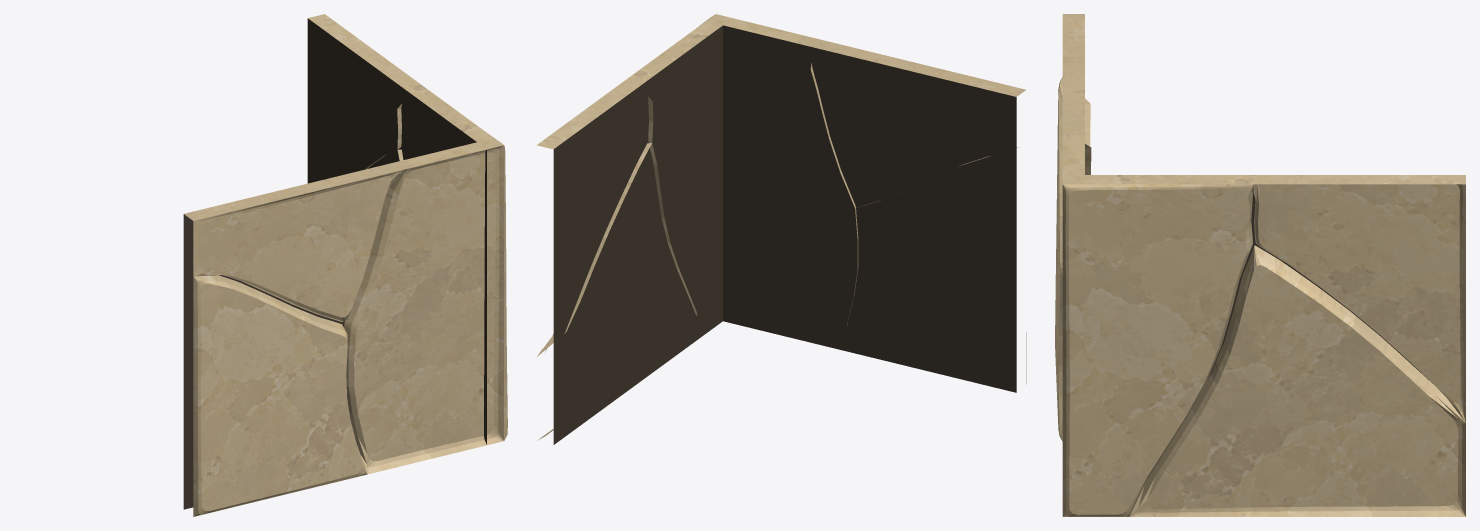
File: ground_corner_06.glb
The picture shows the model from 3 angles, left to right: view 1: azimuth 30°, elevation 25°; view 2: azimuth 150°, elevation 25°; view 3: azimuth 270°, elevation 25°; orthographic projection. The views are drawn at different scales.
Parts seen in each view (by area): view 1: GroundCorner06_Body; view 2: GroundCorner06_Body; view 3: GroundCorner06_Body.
Boxes of the visible parts, x1=… form: GroundCorner06_Body: x1=183, y1=14, x2=507, y2=516; GroundCorner06_Body: x1=537, y1=14, x2=1026, y2=444; GroundCorner06_Body: x1=1055, y1=14, x2=1465, y2=516.
Size of the model in its own units: 1.02 by 0.91 by 1.02.
Materials: 8 (7 with a texture image).
